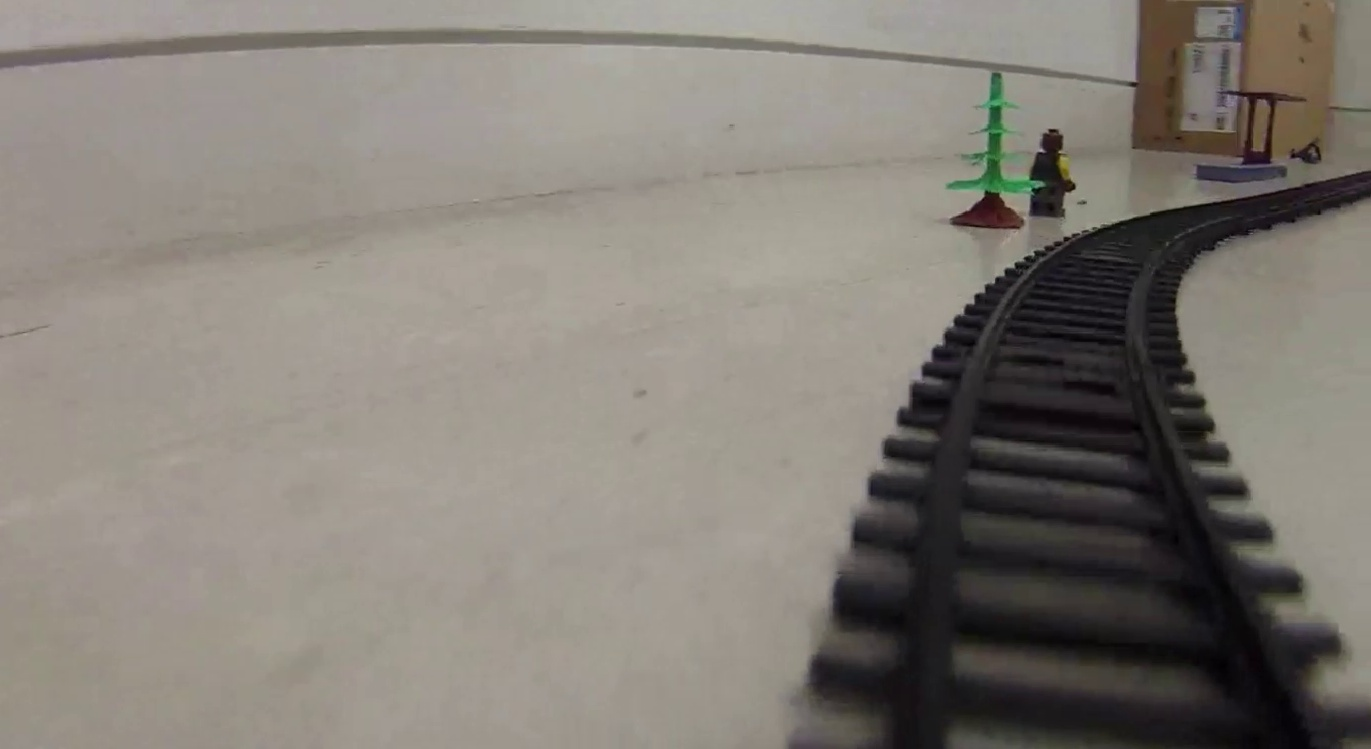people: (1031, 128, 1075, 219)
tree: (942, 71, 1031, 229)
